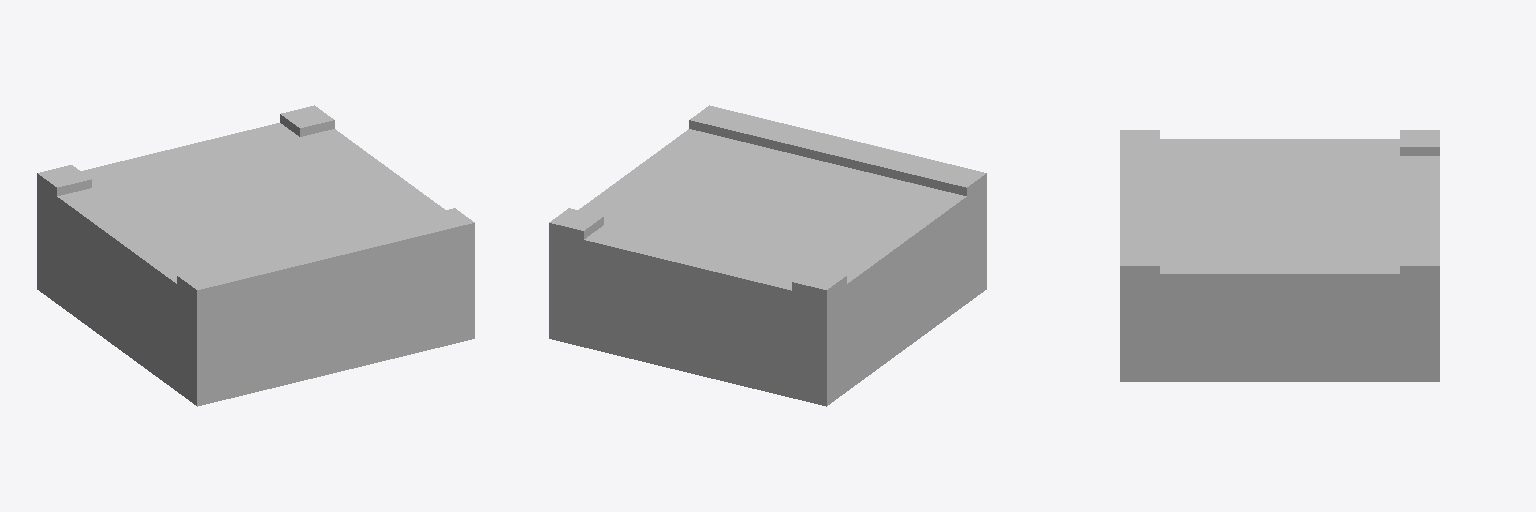
Rendered from tile_097.obj.
3 views of the same model, side by side, from view 1: azimuth 30°, elevation 25°; view 2: azimuth 150°, elevation 25°; view 3: azimuth 270°, elevation 25° (orthographic).
Visible parts, largest first — view 1: tile_097; view 2: tile_097; view 3: tile_097.
Part boxes in pixels (left/top/right/bottom): tile_097: left=37, top=105, right=474, bottom=406; tile_097: left=549, top=105, right=986, bottom=406; tile_097: left=1120, top=130, right=1439, bottom=381.
Size of the model in its own units: 1 by 0.4 by 1.